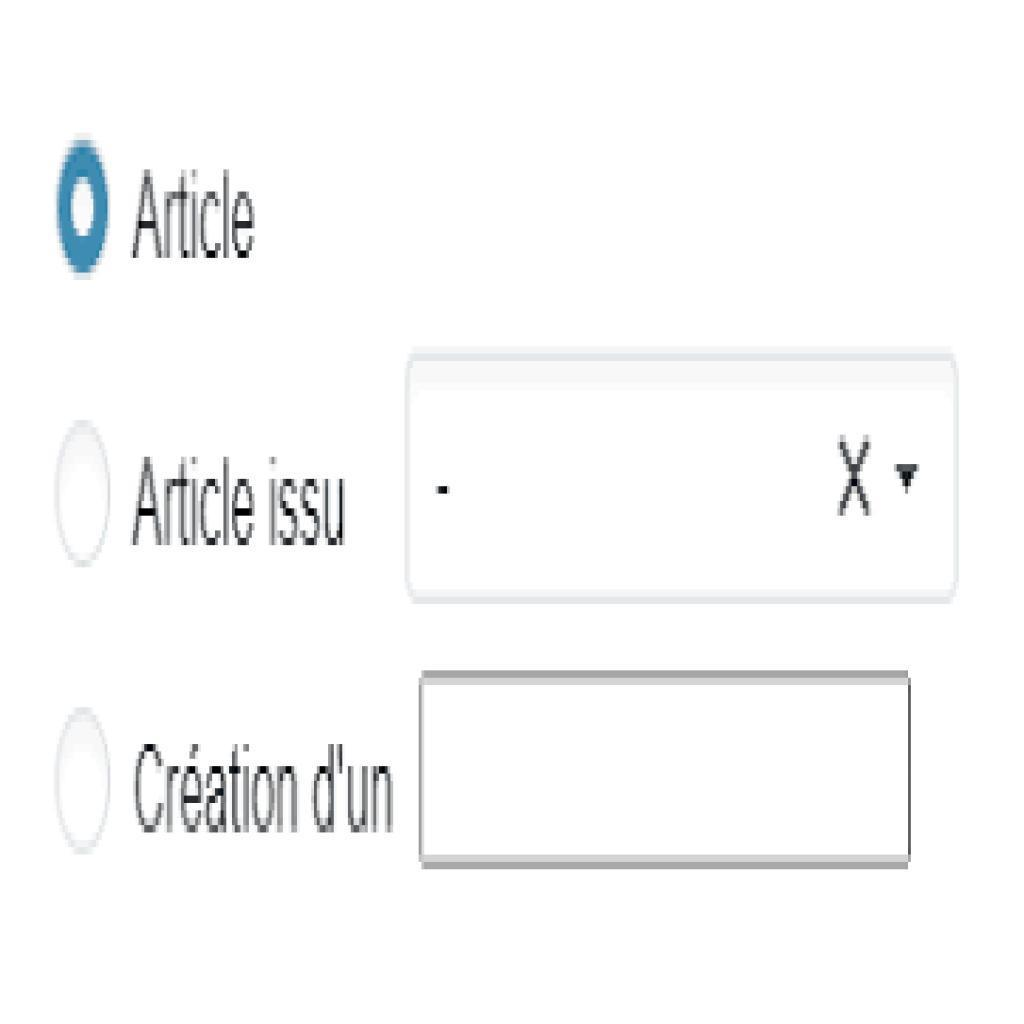dropdown: (404, 357, 961, 604)
input: (423, 674, 906, 863)
radio: (52, 417, 117, 569), (56, 139, 117, 281), (54, 710, 113, 853)
